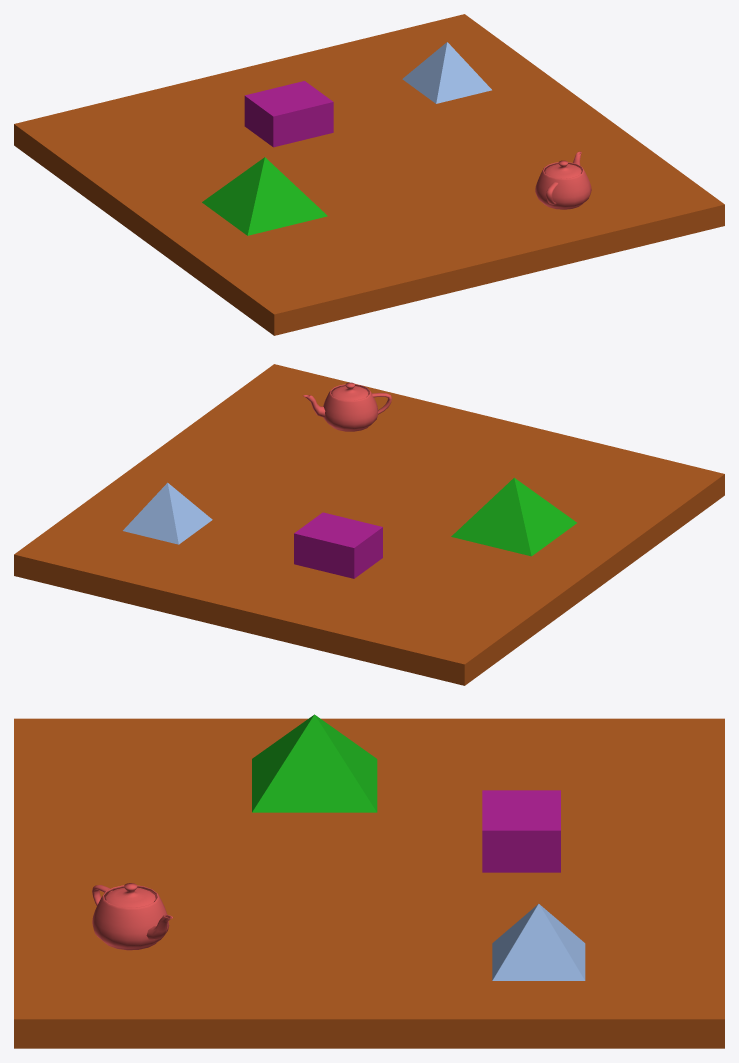
The model's file is lighttest.dae.
3 renders of one model, top to bottom at view 1: azimuth 30°, elevation 25°; view 2: azimuth 150°, elevation 25°; view 3: azimuth 270°, elevation 25°, orthographic. The views are drawn at different scales.
Parts seen in each view (by area): view 1: Box01, Pyramid02, Box02, Pyramid01, Teapot01; view 2: Box01, Pyramid02, Box02, Pyramid01, Teapot01; view 3: Box01, Pyramid02, Box02, Pyramid01, Teapot01.
Boxes of the visible parts, x1,y1,x2,y2 form: Box01: (14,14,724,335); Pyramid02: (202,157,327,235); Box02: (244,81,333,147); Pyramid01: (402,42,491,103); Teapot01: (535,151,591,209); Box01: (14,364,724,685); Pyramid02: (451,477,576,556); Box02: (294,512,382,578); Pyramid01: (123,482,212,544); Teapot01: (303,382,391,431); Box01: (14,718,724,1048); Pyramid02: (252,714,377,812); Box02: (482,790,560,872); Pyramid01: (492,903,585,980); Teapot01: (92,883,172,950).
Bounding box in the file's own units: 22 × 22 × 3.44.
